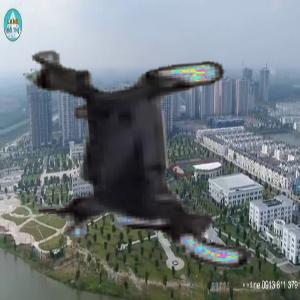drone: (10, 30, 271, 291)
